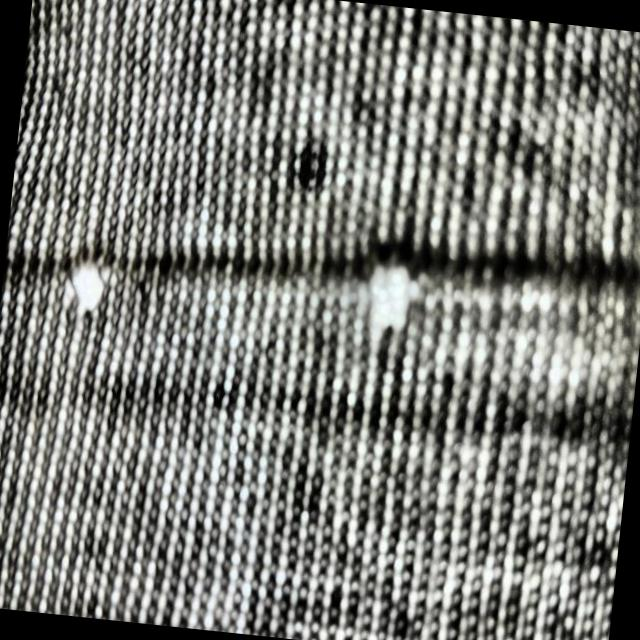cut: (361, 248, 424, 341), (64, 254, 117, 320), (292, 142, 331, 194)
